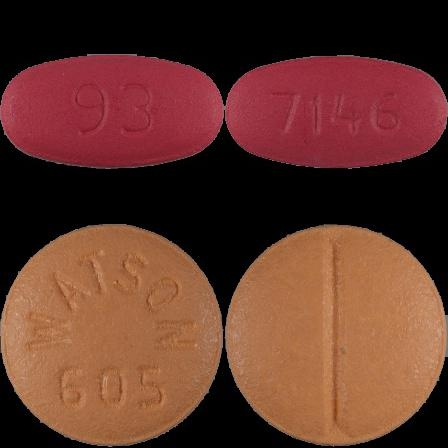50436-4357: (0, 0, 224, 224)
